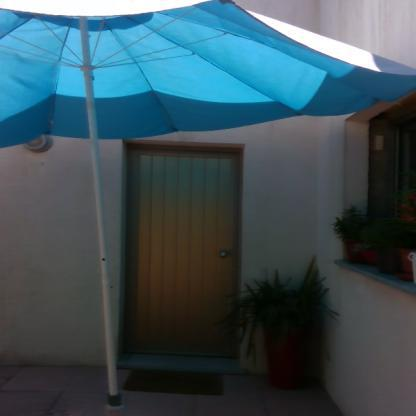door: (130, 148, 236, 358)
knob: (219, 250, 229, 260)
